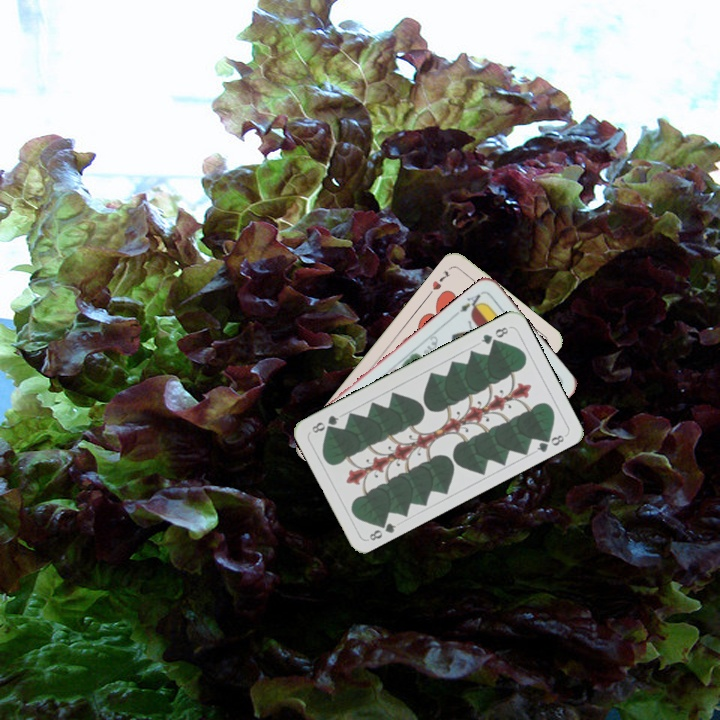EA: (451, 290, 486, 318)
G8: (364, 515, 399, 543), (477, 323, 511, 347)
H7: (428, 266, 453, 293)
